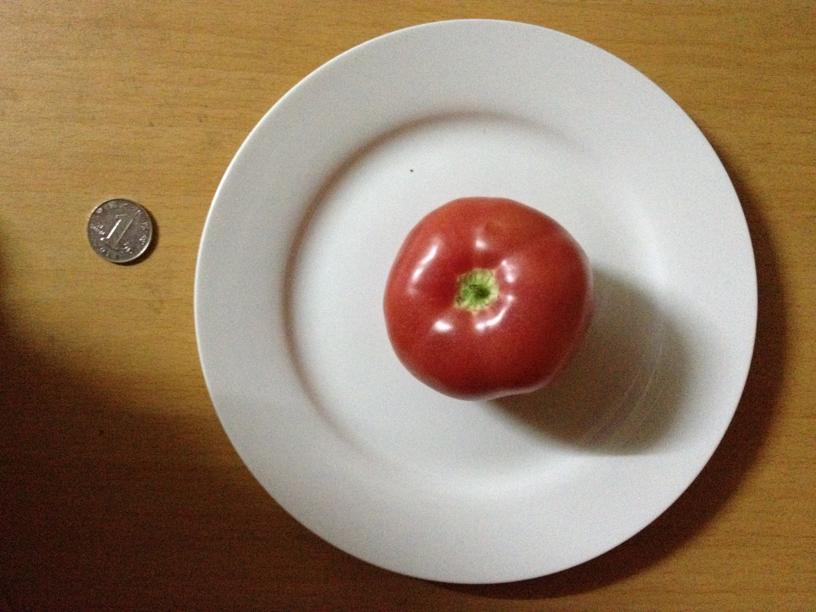coin: (84, 196, 156, 264)
tomato: (384, 199, 596, 404)
